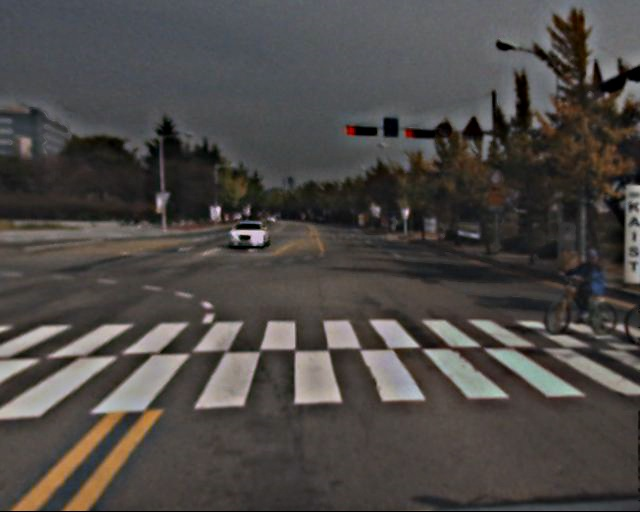person: (575, 248, 607, 326)
